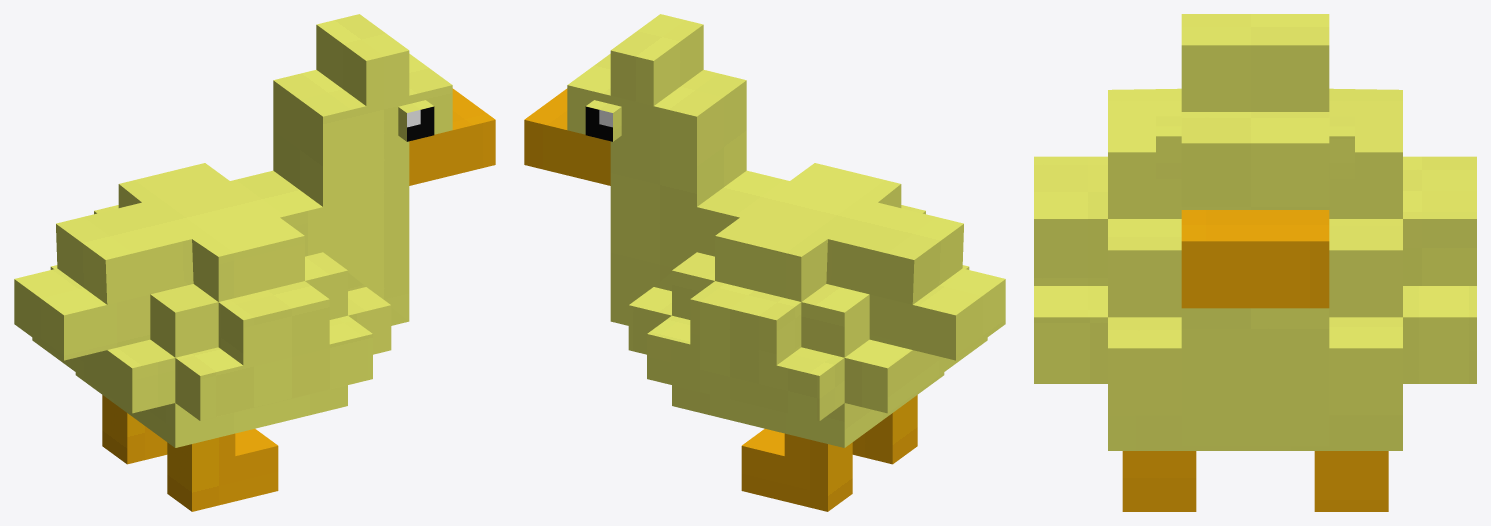
The model's file is Duck.fbx.
3 views of the same model, side by side, from view 1: azimuth 30°, elevation 25°; view 2: azimuth 150°, elevation 25°; view 3: azimuth 270°, elevation 25° (orthographic). The views are drawn at different scales.
Parts seen in each view (by area): view 1: Duck, Duck_Wing_R, Duck_Leg_R, Duck_Leg_L, Eyes; view 2: Duck, Duck_Wing_L, Duck_Leg_L, Duck_Leg_R, Eyes; view 3: Duck, Duck_Wing_L, Duck_Wing_R, Duck_Leg_L, Duck_Leg_R, Eyes.
Boxes of the visible parts, x1=… form: Duck: x1=14, y1=14, x2=495, y2=447; Duck_Wing_R: x1=175, y1=281, x2=372, y2=420; Duck_Leg_R: x1=167, y1=429, x2=278, y2=511; Duck_Leg_L: x1=102, y1=395, x2=167, y2=464; Eyes: x1=398, y1=100, x2=434, y2=141; Duck: x1=524, y1=14, x2=1005, y2=447; Duck_Wing_L: x1=647, y1=281, x2=844, y2=420; Duck_Leg_L: x1=741, y1=429, x2=852, y2=511; Duck_Leg_R: x1=852, y1=395, x2=917, y2=464; Eyes: x1=585, y1=100, x2=621, y2=141; Duck: x1=1108, y1=14, x2=1402, y2=450; Duck_Wing_L: x1=1403, y1=156, x2=1476, y2=383; Duck_Wing_R: x1=1034, y1=156, x2=1107, y2=383; Duck_Leg_L: x1=1314, y1=451, x2=1388, y2=511; Duck_Leg_R: x1=1122, y1=451, x2=1196, y2=511; Eyes: x1=1156, y1=116, x2=1354, y2=178.
Bounding box in the file's own units: 1 × 0.861 × 0.6.
Materials: 1 (1 with a texture image).
